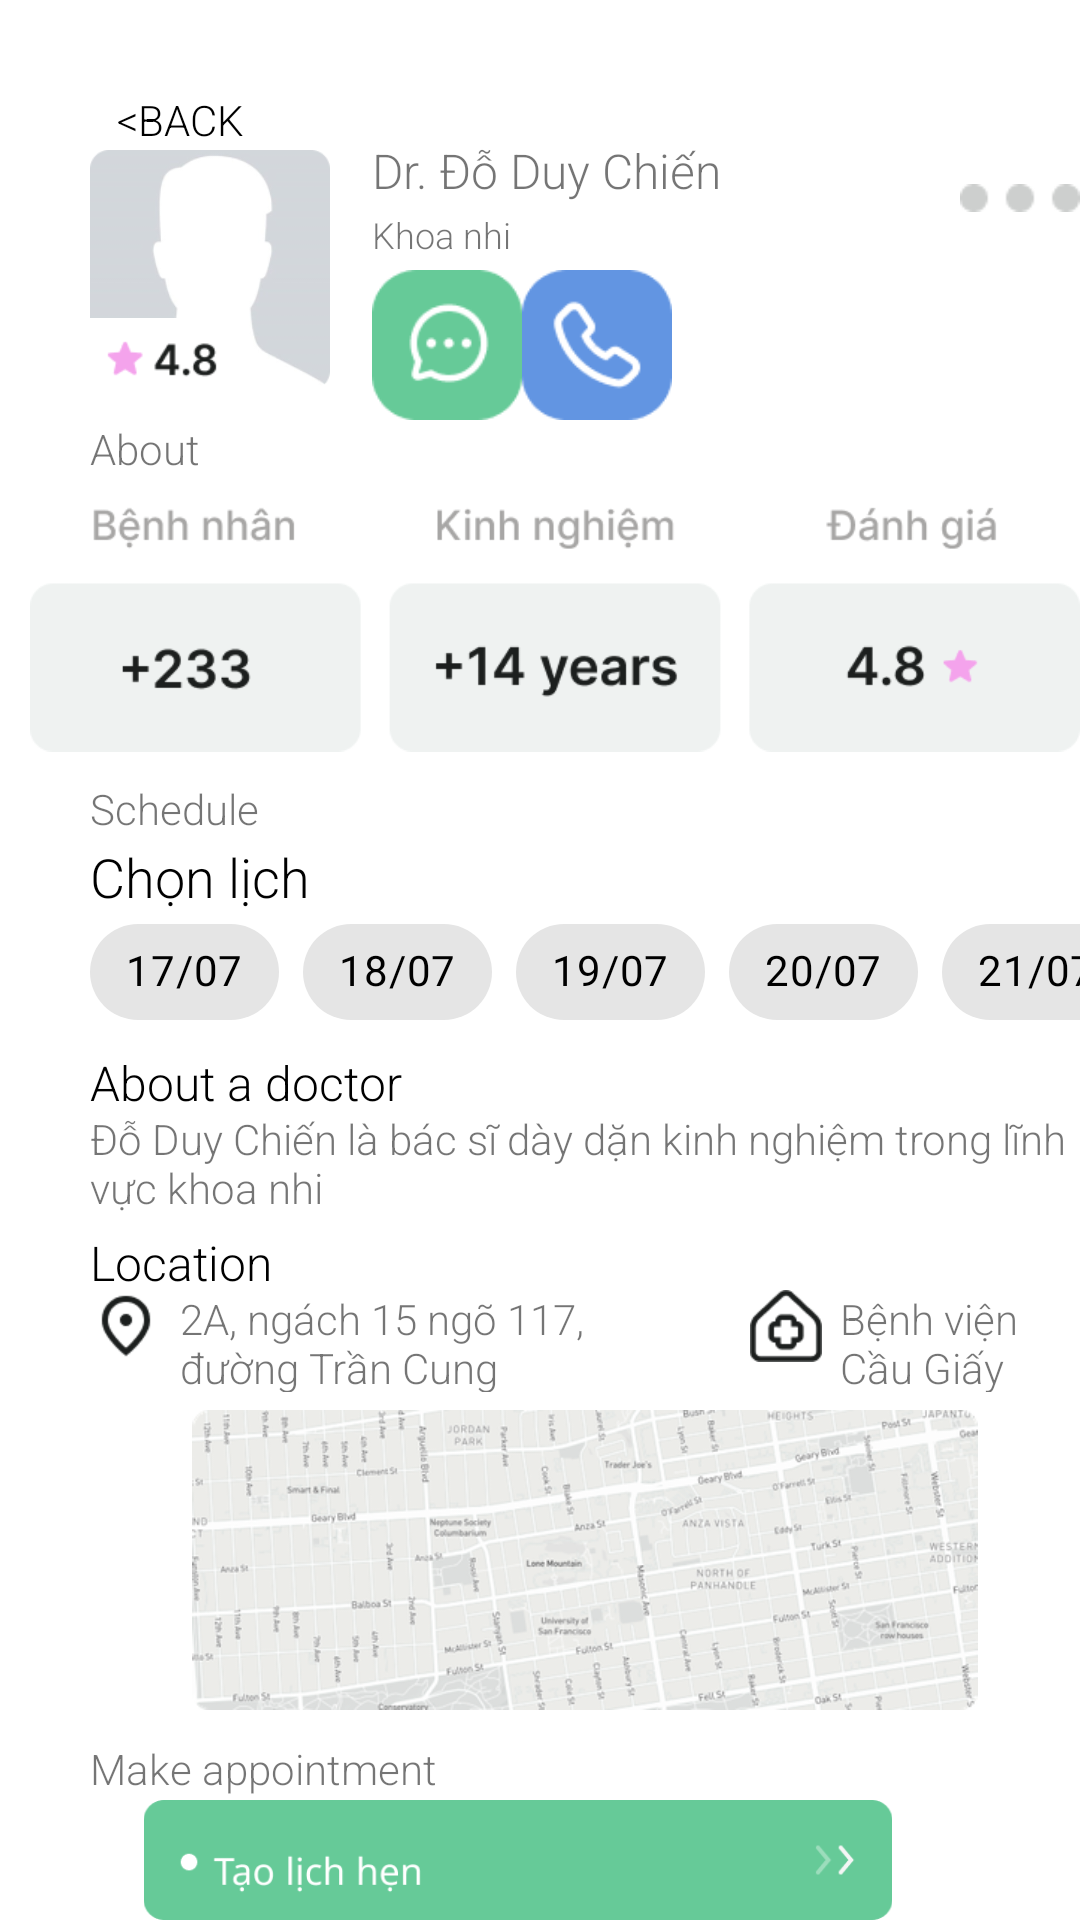

Icons on this 1080x1920 Android screen, each with its box as (x1, y1, x2, y2):
message: (372, 270, 522, 420)
phone: (522, 270, 672, 420)
